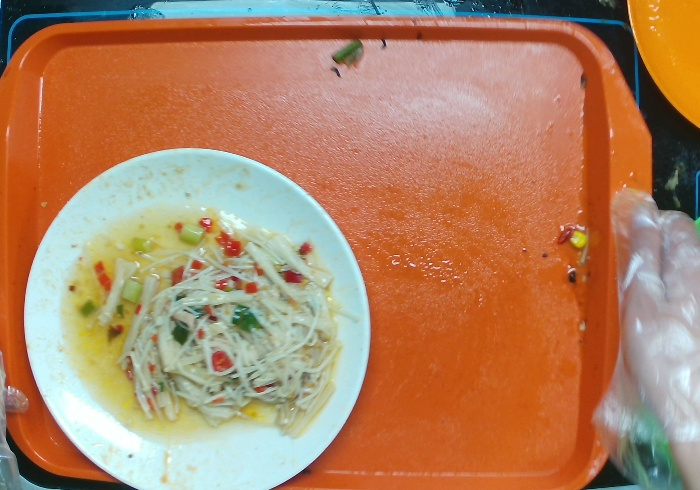HZYJPL-Bai_Se_Yuan_Pan: (22, 146, 374, 490)
